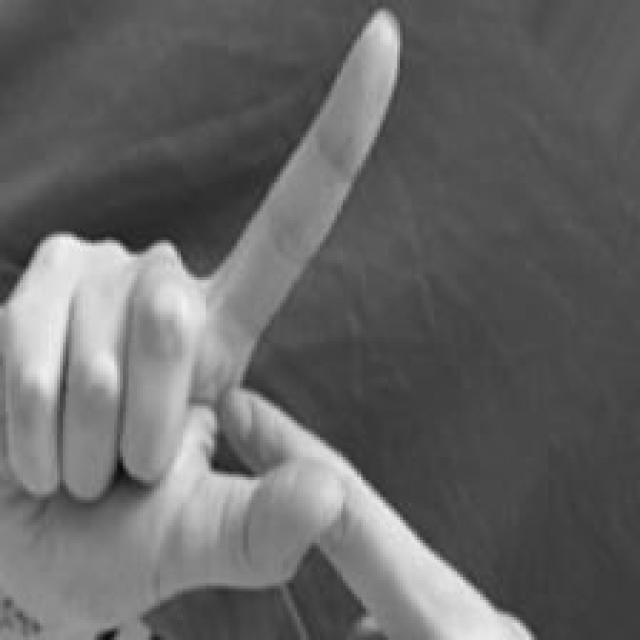J: (3, 6, 535, 640)
